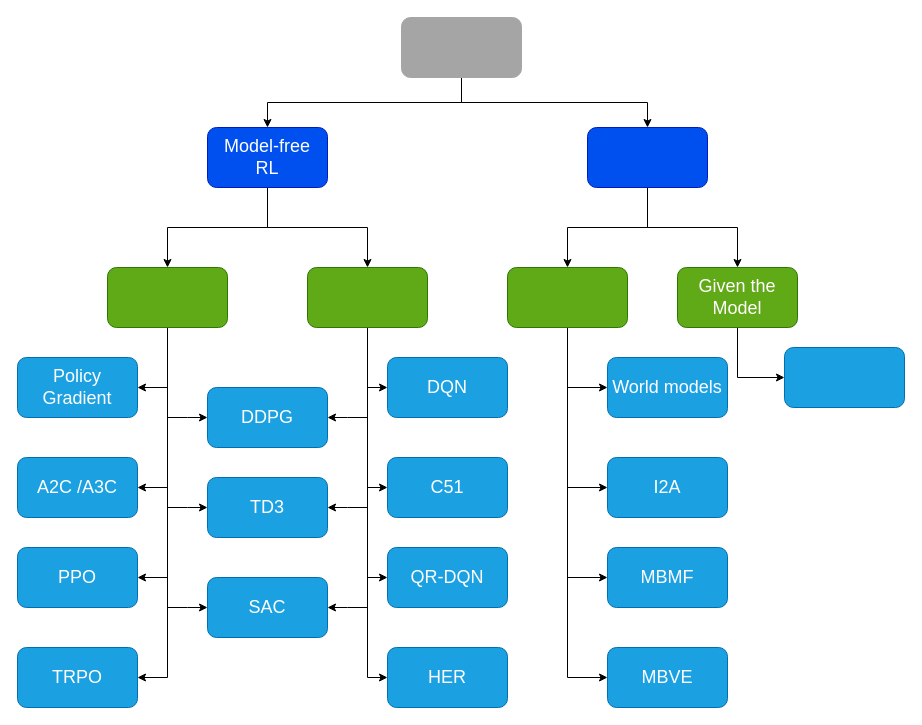
This 922x725 diagram has some shape labels left out. Each missing label, with the box of its shape:
AlphoZero: (784, 346, 904, 408)
Learn the Model: (506, 266, 628, 328)
Model-based RL: (586, 126, 708, 188)
Policy Optimization: (106, 266, 228, 328)
Q-learning: (306, 266, 428, 328)
RL Algorithms: (400, 16, 522, 78)
